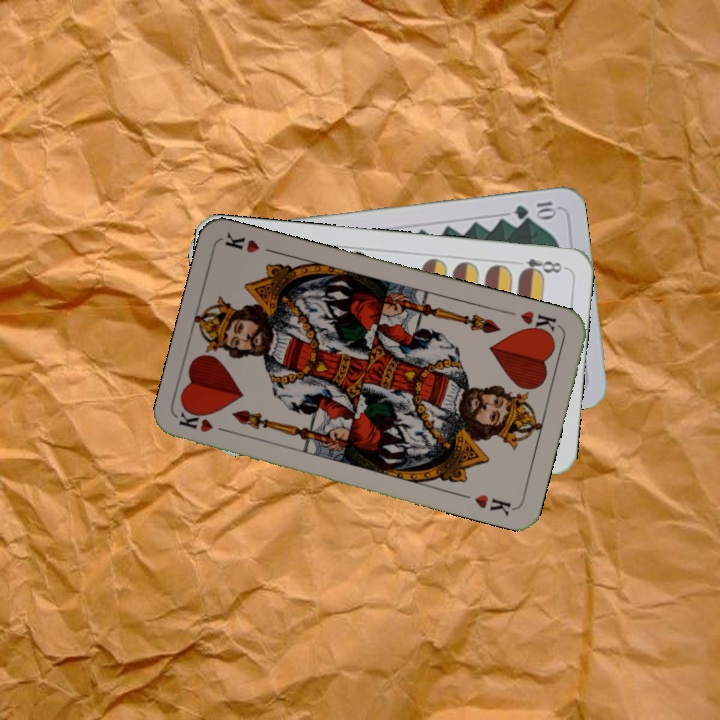E8: (509, 254, 568, 279)
G10: (509, 197, 559, 222)
HK: (175, 408, 235, 436), (516, 306, 562, 339)
